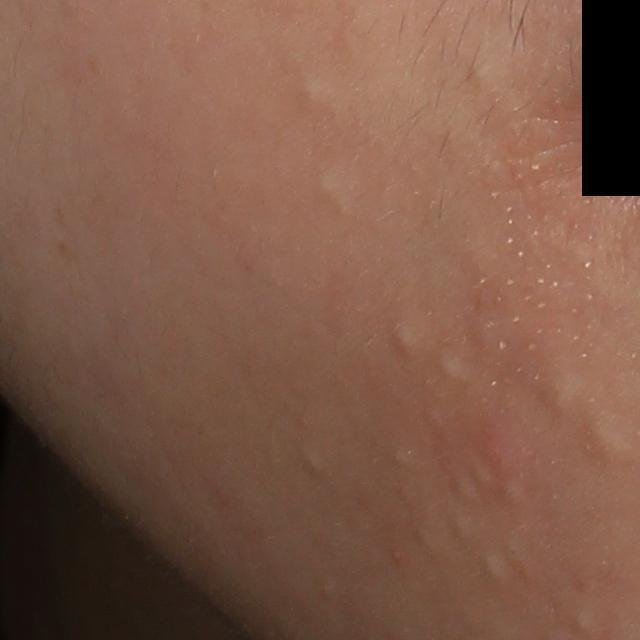comedo: (584, 417, 636, 466), (539, 372, 585, 420), (310, 168, 349, 212), (391, 319, 422, 362), (436, 349, 466, 383), (294, 77, 323, 112), (464, 60, 498, 89), (479, 554, 506, 590), (299, 448, 326, 479), (451, 475, 476, 502), (467, 462, 489, 489), (573, 609, 594, 635), (410, 528, 432, 552), (451, 516, 469, 541), (389, 448, 408, 469), (504, 481, 521, 504)
